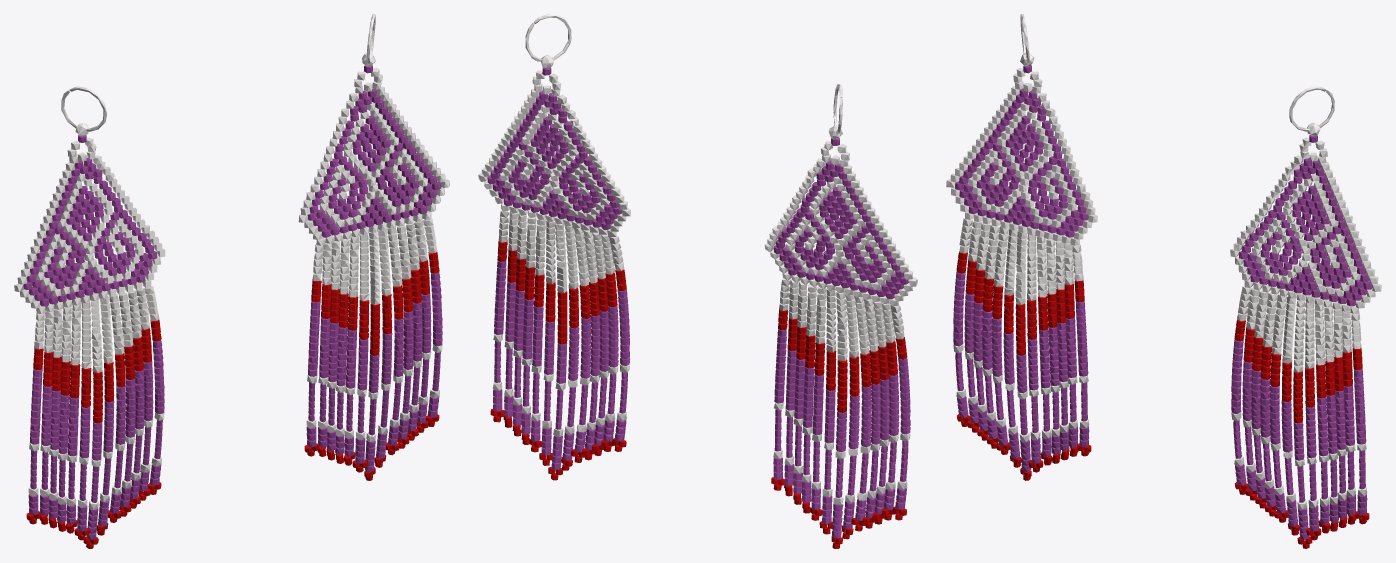
The model's file is Kolczyki.fbx.
3 renders of one model, left to right at view 1: azimuth 30°, elevation 25°; view 2: azimuth 150°, elevation 25°; view 3: azimuth 330°, elevation 25°, orthographic.
Parts seen in each view (by area): view 1: Mesh_2, Mesh_4, Mesh_3; view 2: Mesh_2, Mesh_4, Mesh_3; view 3: Mesh_2, Mesh_4, Mesh_3.
Part boxes in pixels (left/top/right/bottom): Mesh_2: left=23, top=65, right=442, bottom=539; Mesh_4: left=14, top=67, right=449, bottom=509; Mesh_3: left=26, top=252, right=439, bottom=548; Mesh_2: left=487, top=67, right=910, bottom=538; Mesh_4: left=478, top=70, right=917, bottom=504; Mesh_3: left=490, top=241, right=907, bottom=548; Mesh_2: left=953, top=65, right=1372, bottom=539; Mesh_4: left=946, top=68, right=1381, bottom=509; Mesh_3: left=956, top=251, right=1369, bottom=548.
Bounding box in the file's own units: 65.65 × 66.58 × 5.8.
